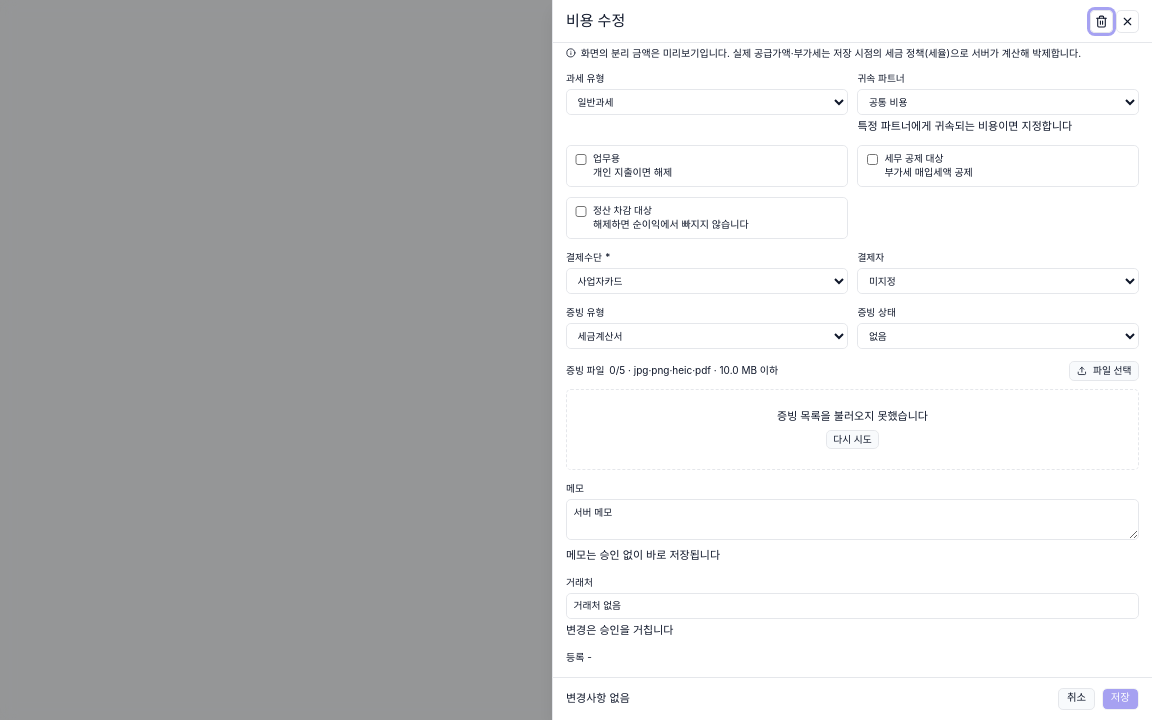
배경 refetch 와 사용자 입력 › 서버 값이 그 사이 바뀌었으면 알려준다 — 조용히 덮지도, 조용히 무시하지도 않는다
(page scrolled)
Replace the text in the text box labelled "메모" with "내 메모": (852, 519) [566,499,1139,540]
(page scrolled)
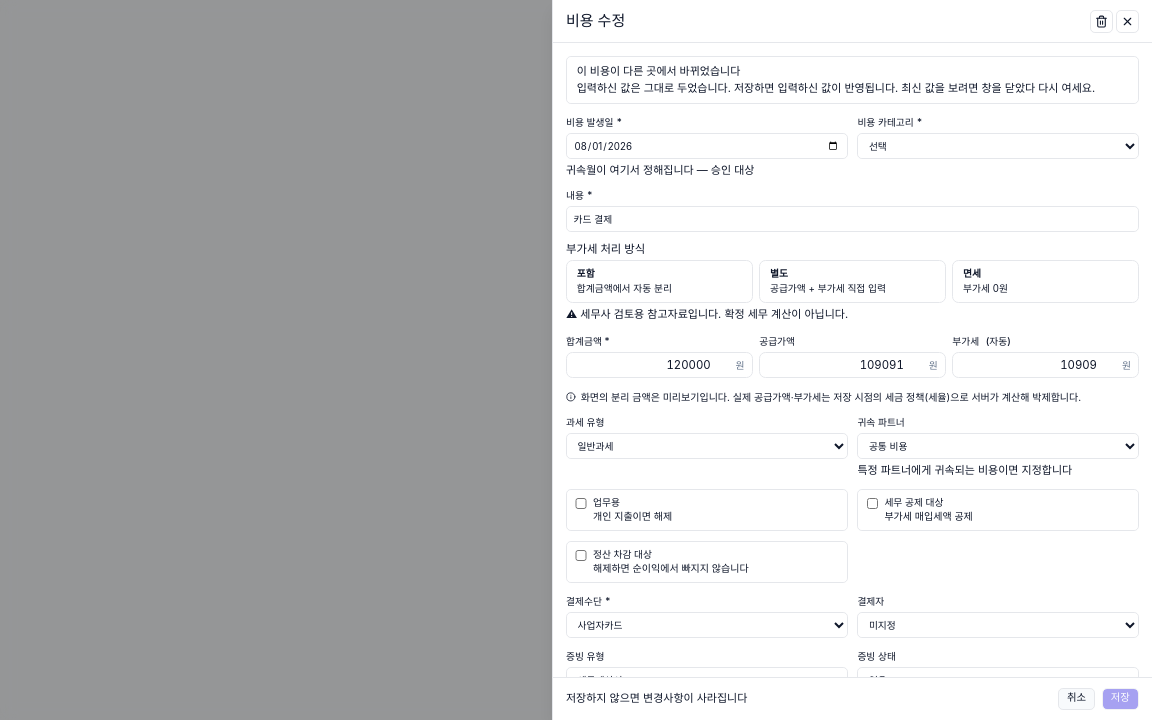
expect the text "이 비용이 다른 곳에서 바뀌었습니다" is shown: met, box [577,64,740,78]
